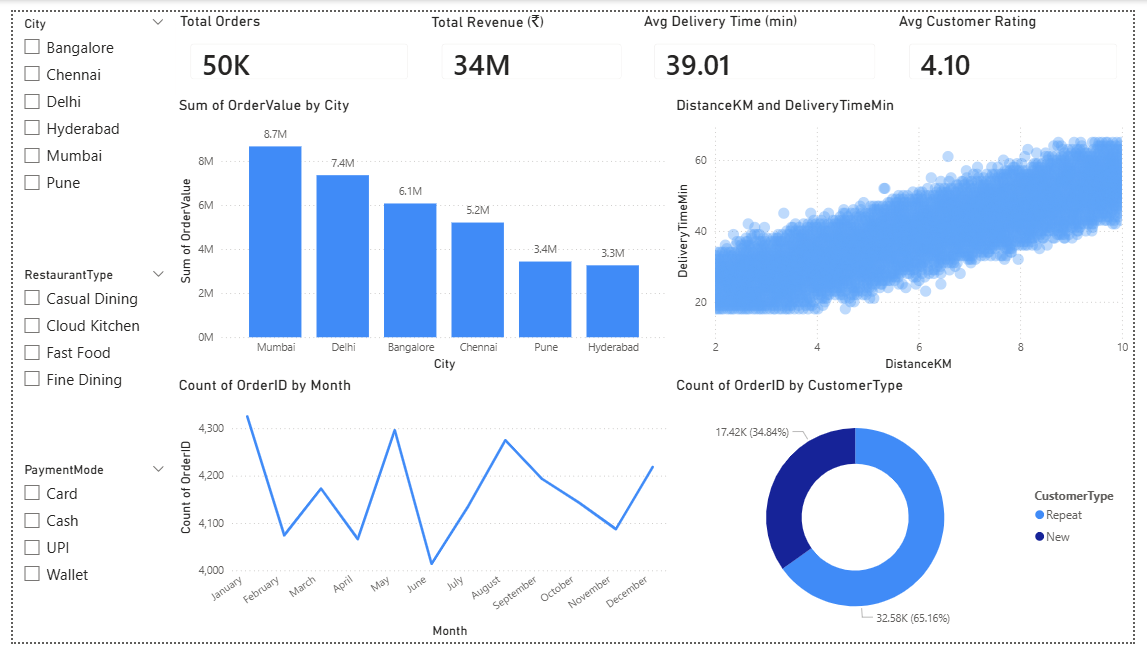

The page's visual inventory and layout, read from the dashboard file:
{"tool":"powerbi","page":{"name":"Page 1","canvas":[1280,720],"ordinal":0},"visuals":[{"type":"cardVisual","title":"Total Orders","fields":{"Data":["CountNonNull(Table1.OrderID)"]},"box":[185,0,283.8,95],"z":0},{"type":"cardVisual","title":"Total Revenue (₹)","fields":{"Data":["Sum(Table1.OrderValue)"]},"box":[472.5,0,240,95],"z":1000},{"type":"cardVisual","title":"Avg Delivery Time (min)","fields":{"Data":["Avg(Table1.DeliveryTimeMin)"]},"box":[716.2,0,287.5,95],"z":2000},{"type":"cardVisual","title":"Avg Customer Rating","fields":{"Data":["Avg(Table1.Rating)"]},"box":[1007.5,0,272.5,95],"z":3000},{"type":"clusteredColumnChart","fields":{"Category":["Table1.City"],"Y":["Sum(Table1.OrderValue)"]},"box":[184.4,95.6,568.9,320],"z":4000},{"type":"lineChart","fields":{"Y":["CountNonNull(Table1.OrderID)"],"Category":["Table1.OrderDate.Variation.Date Hierarchy.Month"]},"box":[184.4,415.6,568.9,304.4],"z":5000},{"type":"scatterChart","fields":{"X":["Table1.DistanceKM"],"Y":["Table1.DeliveryTimeMin"]},"box":[753.3,95.6,526.7,320],"z":6000},{"type":"donutChart","fields":{"Category":["Table1.CustomerType"],"Y":["CountNonNull(Table1.OrderID)"]},"box":[753.3,415.6,526.7,304.4],"z":7000},{"type":"slicer","fields":{"Values":["Table1.City"]},"box":[0,0,184.4,287.8],"z":8000},{"type":"slicer","fields":{"Values":["Table1.RestaurantType"]},"box":[0,287.5,185,222.5],"z":9000},{"type":"slicer","fields":{"Values":["Table1.PaymentMode"]},"box":[0,510,185,210],"z":10000}]}

Visuals, with their boxes in screenshot pixels (x1, y1, x2, y2), scaled from the page's 1280x720 canvas onto the 1147x656 screenshot:
"Total Orders" cardVisual: x1=166 y1=0 x2=420 y2=87
"Total Revenue (₹)" cardVisual: x1=423 y1=0 x2=638 y2=87
"Avg Delivery Time (min)" cardVisual: x1=642 y1=0 x2=899 y2=87
"Avg Customer Rating" cardVisual: x1=903 y1=0 x2=1146 y2=87
clusteredColumnChart - Table1.City x Sum(Table1.OrderValue): x1=165 y1=87 x2=675 y2=379
lineChart - CountNonNull(Table1.OrderID) x Table1.OrderDate.Variation.Date Hierarchy.Month: x1=165 y1=379 x2=675 y2=655
scatterChart - Table1.DistanceKM x Table1.DeliveryTimeMin: x1=675 y1=87 x2=1146 y2=379
donutChart - Table1.CustomerType x CountNonNull(Table1.OrderID): x1=675 y1=379 x2=1146 y2=655
slicer - Table1.City: x1=0 y1=0 x2=165 y2=262
slicer - Table1.RestaurantType: x1=0 y1=262 x2=166 y2=465
slicer - Table1.PaymentMode: x1=0 y1=465 x2=166 y2=655
